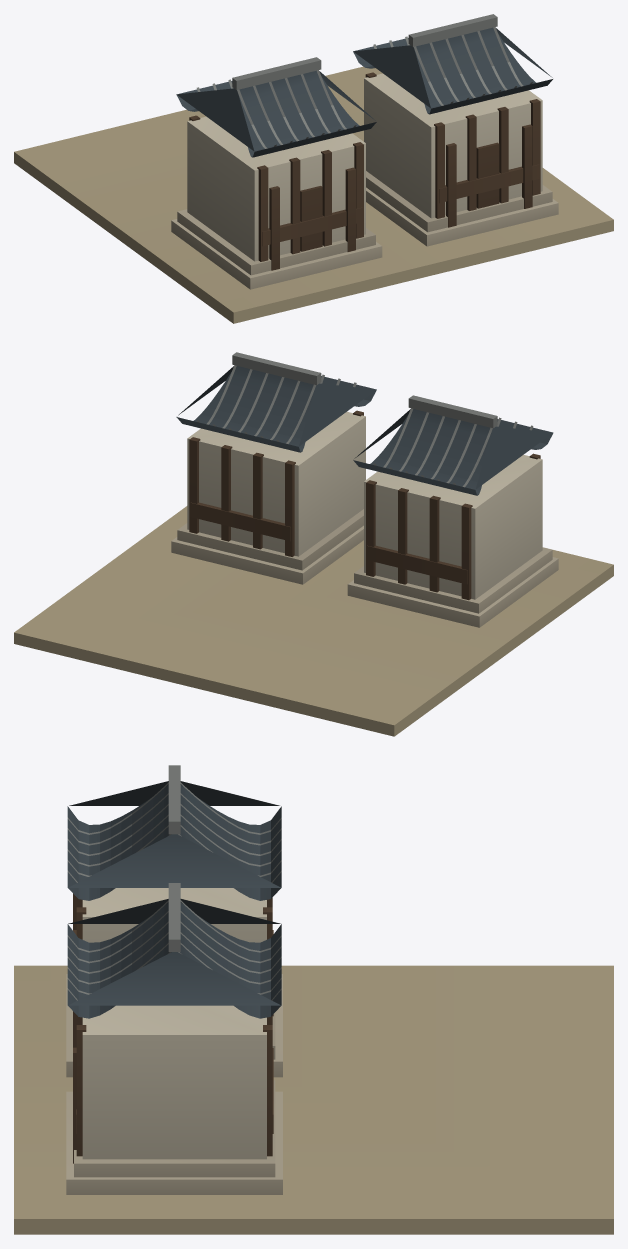
Rendered from granary-1.glb.
3 views of the same model, one above another, from view 1: azimuth 30°, elevation 25°; view 2: azimuth 150°, elevation 25°; view 3: azimuth 270°, elevation 25° (orthographic). The views are drawn at different scales.
Parts seen in each view (by area): view 1: granary 1 4, granary 1 1, granary 1 2, granary 1 3, granary 1 0, granary 1 5; view 2: granary 1 4, granary 1 1, granary 1 2, granary 1 0, granary 1 3, granary 1 5; view 3: granary 1 4, granary 1 2, granary 1 1, granary 1 0, granary 1 5, granary 1 3.
Part boxes in pixels (x1,y1,x2,y2): granary 1 4: [14, 66, 613, 323]; granary 1 1: [187, 73, 542, 261]; granary 1 2: [176, 27, 552, 157]; granary 1 3: [189, 72, 540, 270]; granary 1 0: [171, 171, 558, 289]; granary 1 5: [196, 14, 532, 148]; granary 1 4: [14, 506, 613, 736]; granary 1 1: [187, 411, 542, 599]; granary 1 2: [176, 366, 553, 495]; granary 1 0: [171, 509, 558, 627]; granary 1 3: [189, 410, 540, 600]; granary 1 5: [197, 352, 533, 487]; granary 1 4: [14, 965, 613, 1234]; granary 1 2: [67, 781, 281, 1018]; granary 1 1: [82, 888, 266, 1159]; granary 1 0: [66, 974, 282, 1194]; granary 1 5: [67, 765, 281, 1000]; granary 1 3: [73, 893, 273, 1163].
Size of the model in its own units: 2.8 by 1.31 by 2.8.
